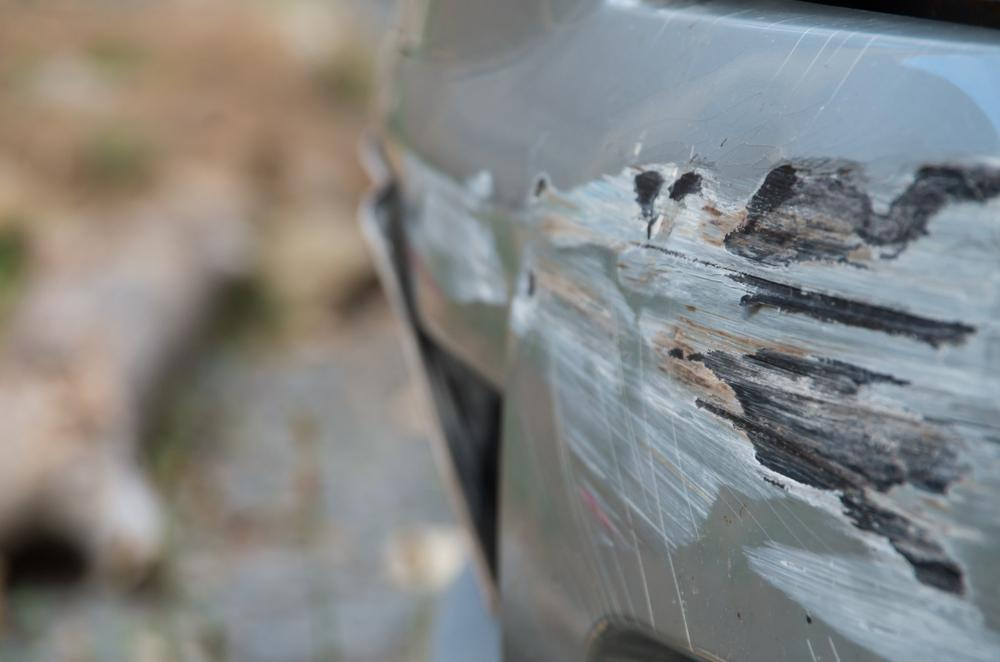scratch: (401, 133, 1000, 662)
